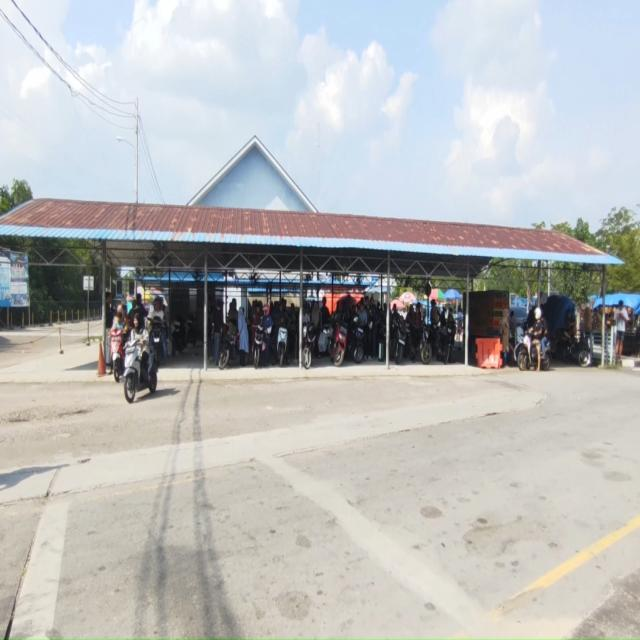Golongan II: (123, 340, 158, 404), (552, 333, 590, 367), (516, 334, 550, 371), (436, 314, 456, 364), (219, 324, 239, 370), (330, 316, 348, 366), (347, 315, 364, 364), (110, 329, 124, 382), (302, 323, 317, 369), (149, 317, 164, 362), (394, 318, 408, 365), (172, 316, 186, 357), (276, 325, 289, 367), (253, 324, 265, 369), (420, 322, 432, 364), (317, 323, 332, 355)
